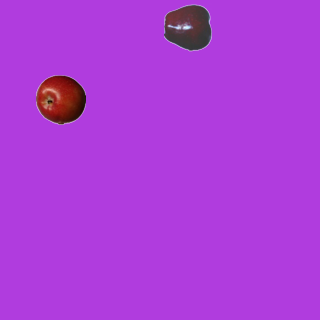Apple Braeburn: (35, 74, 85, 124)
Apple Red Delicious: (163, 2, 213, 52)
